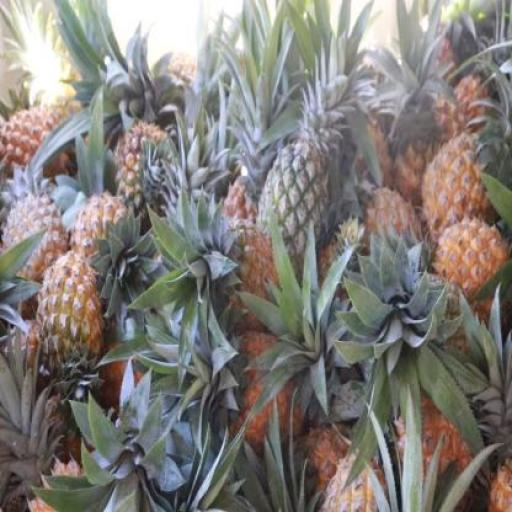Pineapple - v8 v1: (38, 255, 99, 381), (423, 133, 494, 235), (435, 222, 507, 311)
